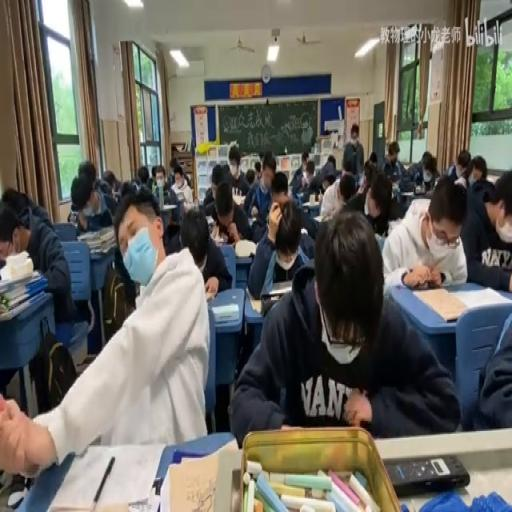calculator: (46, 441, 164, 510), (161, 440, 241, 510), (0, 287, 46, 321), (451, 284, 509, 310), (246, 283, 286, 313), (76, 224, 115, 254), (0, 266, 42, 292), (210, 302, 238, 322), (234, 238, 256, 256), (210, 230, 226, 246), (386, 218, 402, 234), (204, 288, 217, 302), (232, 194, 246, 206), (296, 189, 306, 202), (312, 213, 326, 222), (174, 189, 184, 201), (206, 215, 215, 226), (161, 204, 177, 210), (246, 214, 254, 224), (400, 191, 414, 196), (300, 224, 307, 234)
paper: (230, 212, 456, 444), (0, 186, 77, 410), (100, 189, 150, 339), (460, 165, 512, 296), (178, 198, 232, 293), (472, 303, 512, 431), (263, 168, 318, 246), (68, 162, 116, 228), (0, 205, 30, 260), (343, 166, 375, 215), (222, 144, 250, 196), (410, 151, 440, 193), (203, 158, 229, 206), (345, 122, 364, 174), (382, 141, 405, 183), (448, 148, 474, 183), (162, 219, 182, 253), (2, 185, 23, 206), (101, 168, 116, 189), (169, 156, 181, 180), (152, 186, 168, 202), (137, 165, 149, 186), (120, 179, 134, 196), (314, 185, 324, 205), (305, 165, 314, 186), (245, 166, 254, 184), (130, 176, 140, 192), (327, 154, 336, 170), (254, 160, 262, 178), (368, 150, 378, 164), (174, 174, 183, 189), (302, 150, 310, 164), (182, 174, 190, 188), (420, 151, 426, 168), (150, 165, 156, 179)
person: (384, 452, 470, 496), (406, 277, 438, 290)
